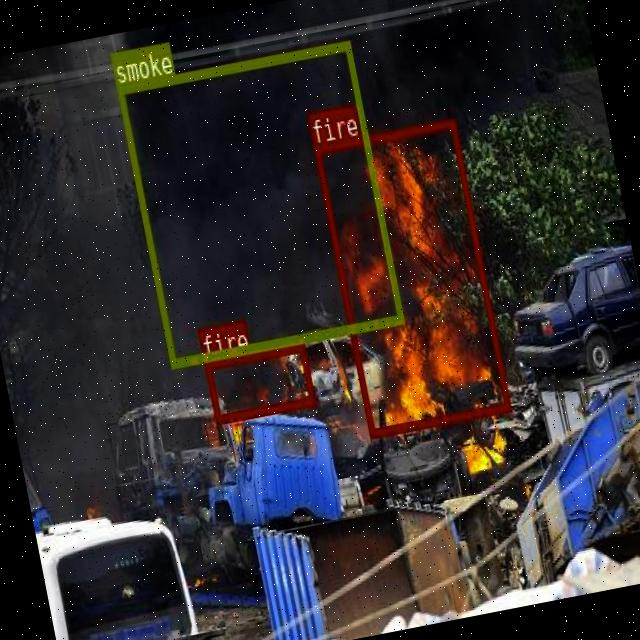fire: (313, 118, 510, 436), (203, 342, 314, 423)
smoke: (115, 40, 404, 368)
